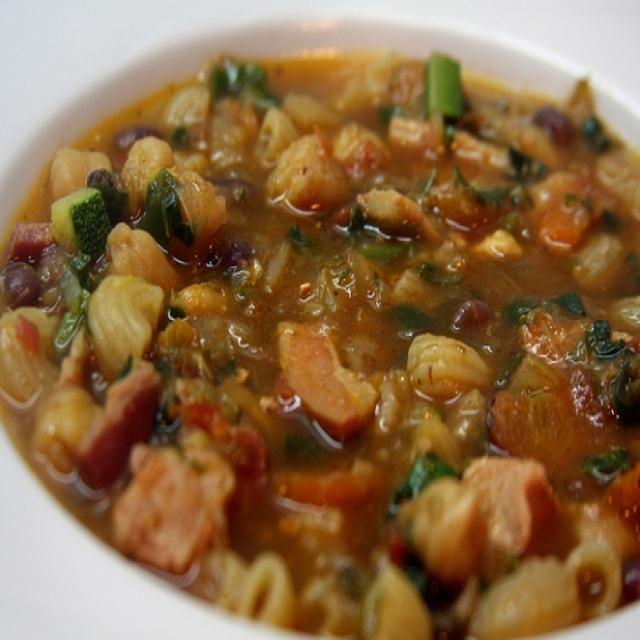汤锅炖物: (9, 16, 626, 629)
